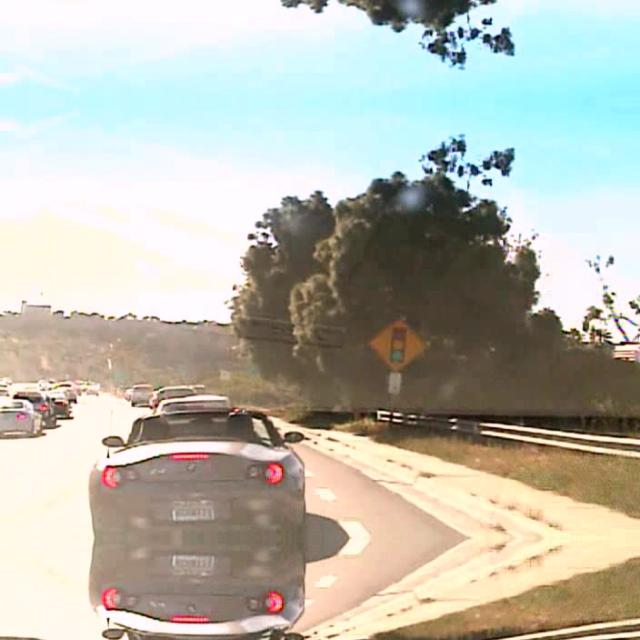signalAhead: (367, 314, 425, 368)
